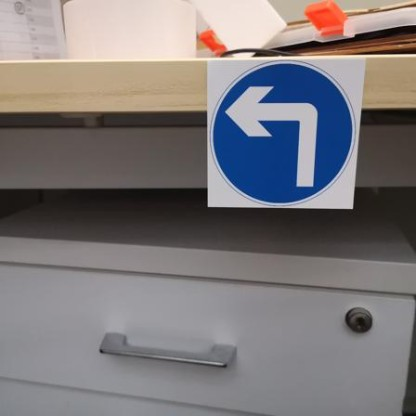left: (202, 61, 358, 210)
